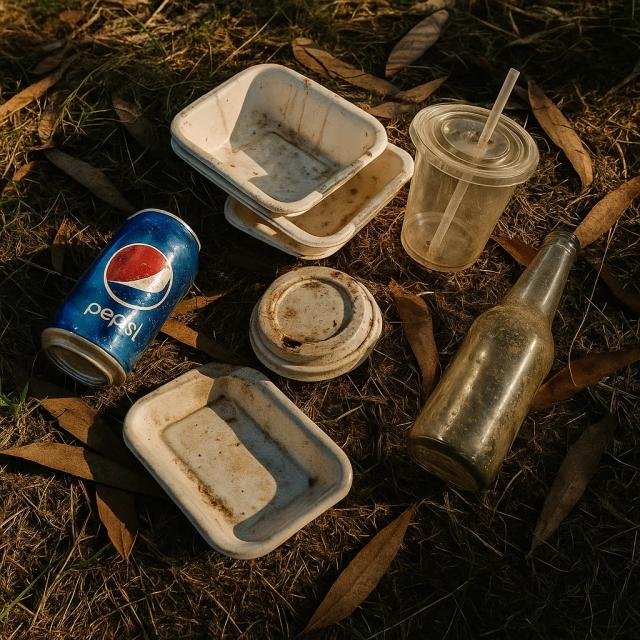aluminum: (42, 212, 200, 394)
plastic: (406, 67, 536, 270)
